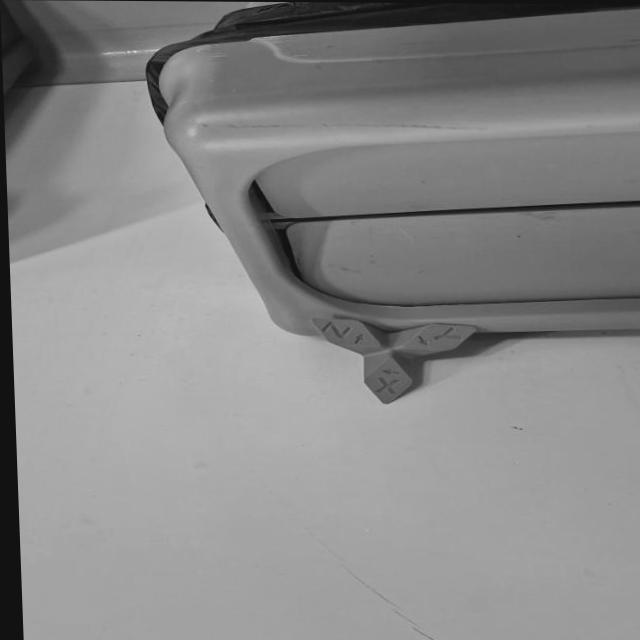eje: (309, 317, 483, 406)
